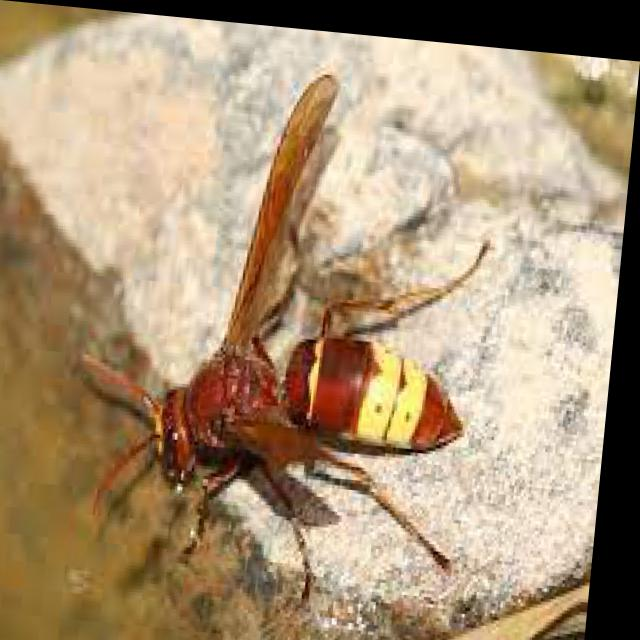Vespa Orientalis: (46, 36, 553, 639)
